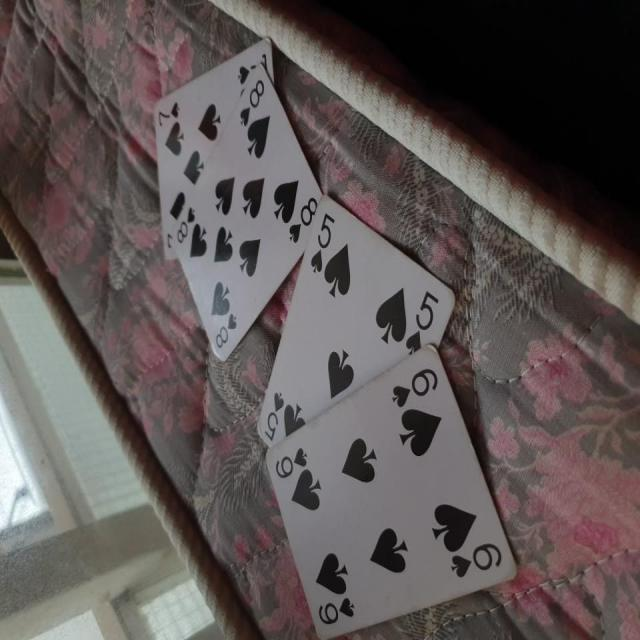5 Spades: (250, 194, 457, 476)
6 Spades: (264, 347, 522, 640)
7 Spades: (144, 40, 288, 277)
8 Spades: (166, 70, 332, 373)
